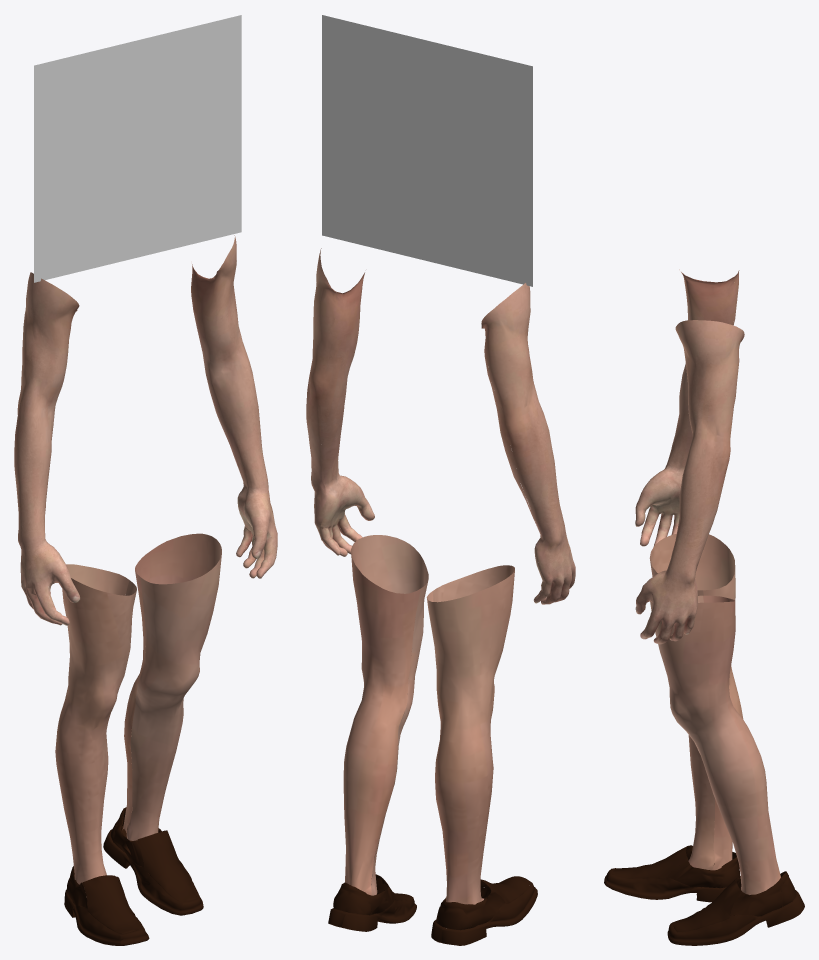
File: male_model_posed.glb
The picture shows the model from 3 angles, left to right: view 1: azimuth 30°, elevation 25°; view 2: azimuth 150°, elevation 25°; view 3: azimuth 270°, elevation 25°; orthographic projection. The views are drawn at different scales.
Parts seen in each view (by area): view 1: face_plane_front, body_Node.004, body_Node001, shoes.001, shoes; view 2: face_plane_back, body_Node.004, body_Node001, shoes, shoes.001; view 3: body_Node.004, body_Node001, shoes.001, shoes.
Part boxes in pixels (x1,y1,x2,y2): face_plane_front: (34, 15, 241, 282); body_Node.004: (55, 533, 221, 897); body_Node001: (14, 235, 277, 625); shoes.001: (103, 807, 203, 915); shoes: (64, 866, 149, 945); face_plane_back: (322, 15, 532, 286); body_Node.004: (343, 535, 514, 904); body_Node001: (306, 248, 575, 604); shoes: (431, 876, 537, 945); shoes.001: (328, 874, 416, 931); body_Node.004: (649, 533, 780, 894); body_Node001: (635, 269, 744, 644); shoes.001: (667, 871, 804, 945); shoes: (604, 845, 740, 902).
Bounding box in the file's own units: 59.19 × 199 × 42.42.
Materials: 3 (2 with a texture image).
